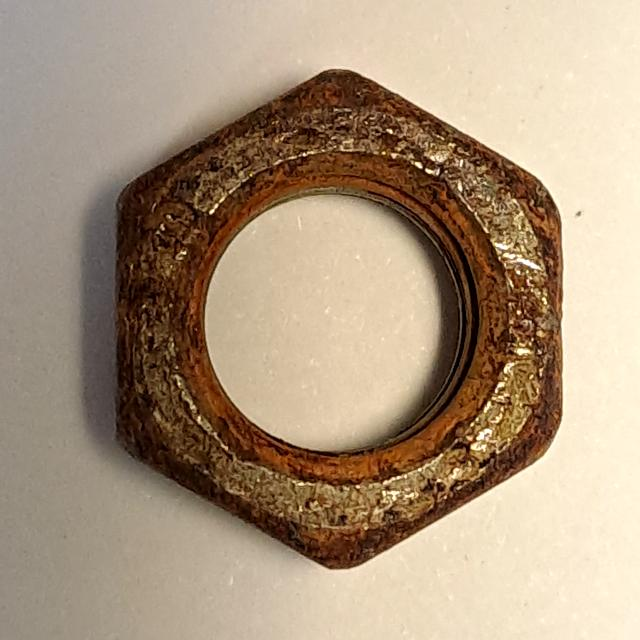Rust: (105, 55, 577, 584)
